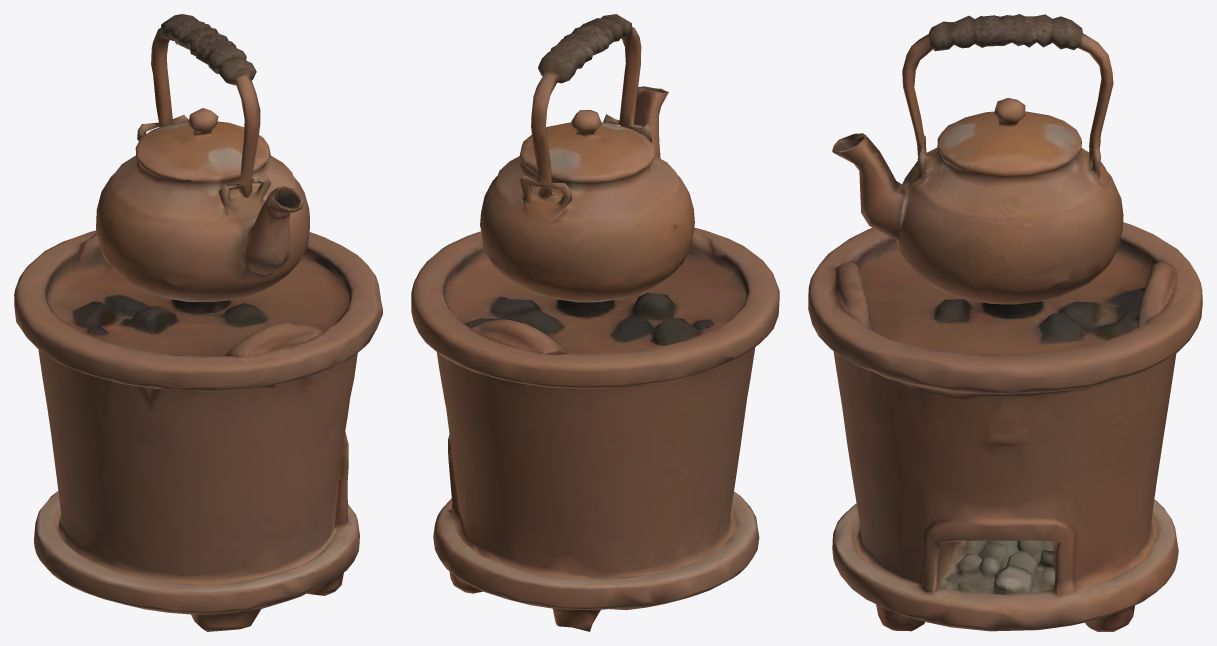
Rendered from fenglu.glb.
3 renders of one model, left to right at view 1: azimuth 30°, elevation 25°; view 2: azimuth 150°, elevation 25°; view 3: azimuth 270°, elevation 25°, orthographic. The views are drawn at different scales.
Visible parts, largest first — view 1: tripo_node_e363ea3a-0062-42ff-9ac6-3b0be1949265; view 2: tripo_node_e363ea3a-0062-42ff-9ac6-3b0be1949265; view 3: tripo_node_e363ea3a-0062-42ff-9ac6-3b0be1949265.
Boxes of the visible parts, x1,y1,x2,y2 form: tripo_node_e363ea3a-0062-42ff-9ac6-3b0be1949265: (14, 14, 382, 631); tripo_node_e363ea3a-0062-42ff-9ac6-3b0be1949265: (411, 14, 779, 631); tripo_node_e363ea3a-0062-42ff-9ac6-3b0be1949265: (808, 14, 1202, 631).
Size of the model in its own units: 0.6224 by 1 by 0.6222.
Materials: 1 (1 with a texture image).
